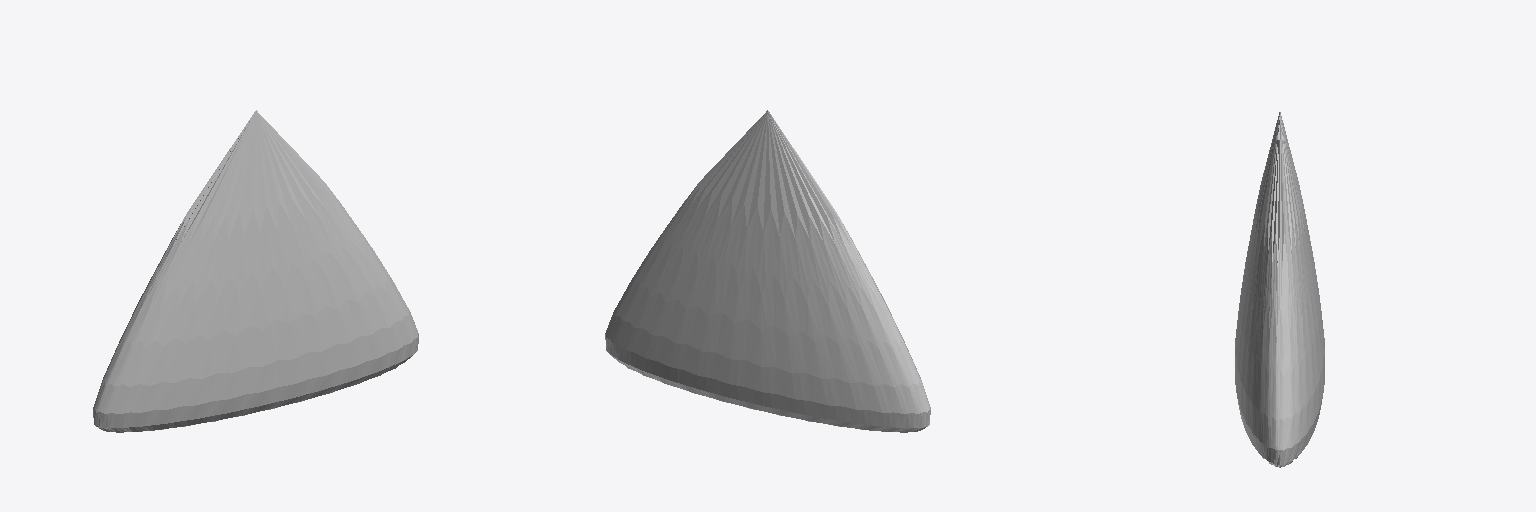
The model's file is Pin.obj.
The picture shows the model from 3 angles: view 1: azimuth 30°, elevation 25°; view 2: azimuth 150°, elevation 25°; view 3: azimuth 270°, elevation 25°; orthographic projection.
Visible parts, largest first — view 1: 원뿔.001; view 2: 원뿔.001; view 3: 원뿔.001.
Boxes of the visible parts, box(x1,y1,x2,y2) form: 원뿔.001: box(93, 110, 418, 432); 원뿔.001: box(605, 110, 930, 432); 원뿔.001: box(1235, 112, 1324, 467).
Size of the model in its own units: 0.234 by 0.2023 by 0.0568.